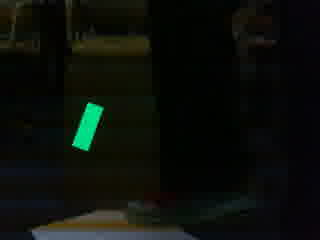target: (71, 101, 201, 156)
